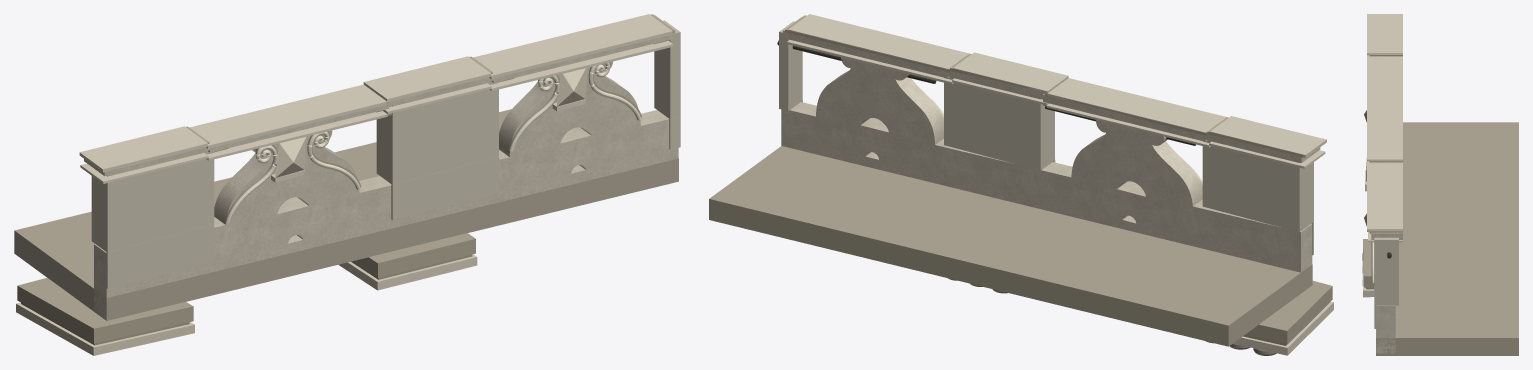
File: huangpu-huade-building-scroll-parapet-raw.glb
The picture shows the model from 3 angles, left to right: view 1: azimuth 30°, elevation 25°; view 2: azimuth 150°, elevation 25°; view 3: azimuth 270°, elevation 25°; orthographic projection. The views are drawn at different scales.
Parts seen in each view (by area): view 1: 华德大楼四川中路立面双卷草栏板与圆饰托板; view 2: 华德大楼四川中路立面双卷草栏板与圆饰托板; view 3: 华德大楼四川中路立面双卷草栏板与圆饰托板.
Boxes of the visible parts, x1=… form: 华德大楼四川中路立面双卷草栏板与圆饰托板: x1=14, y1=14, x2=680, y2=355; 华德大楼四川中路立面双卷草栏板与圆饰托板: x1=709, y1=14, x2=1333, y2=355; 华德大楼四川中路立面双卷草栏板与圆饰托板: x1=1362, y1=14, x2=1518, y2=355.
Bounding box in the file's own units: 3.53 × 1.07 × 1.01.
Materials: 11 (1 with a texture image).
